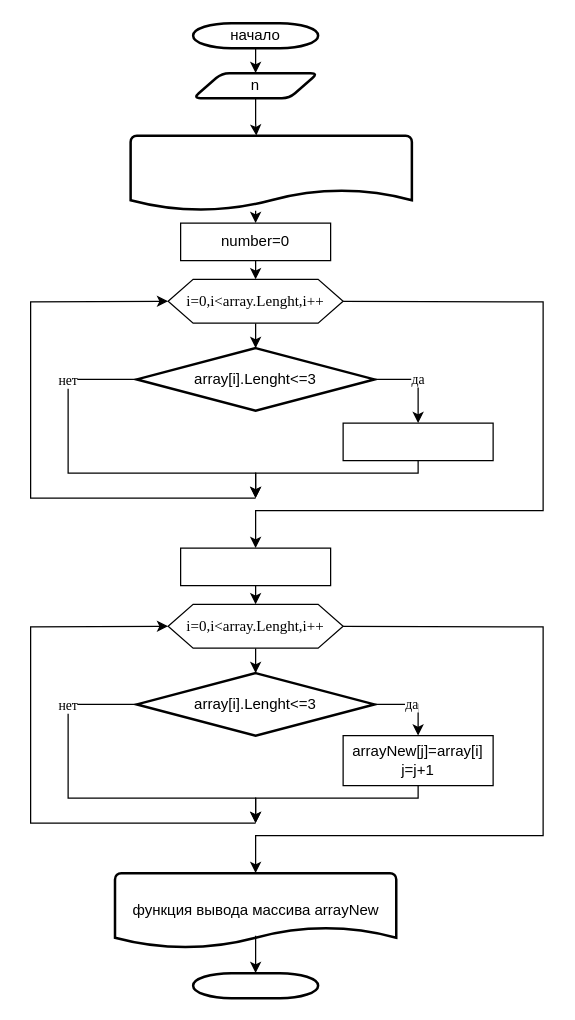
Some shapes in this 575 by 1020 pixel diagram are drawn without their labels. Each missing label, with the centre of its shape:
"j=0" goes at (255,566).
"number=number+1" goes at (417,441).
"конец" goes at (255,985).
"функция ввода массива array" goes at (270,172).
